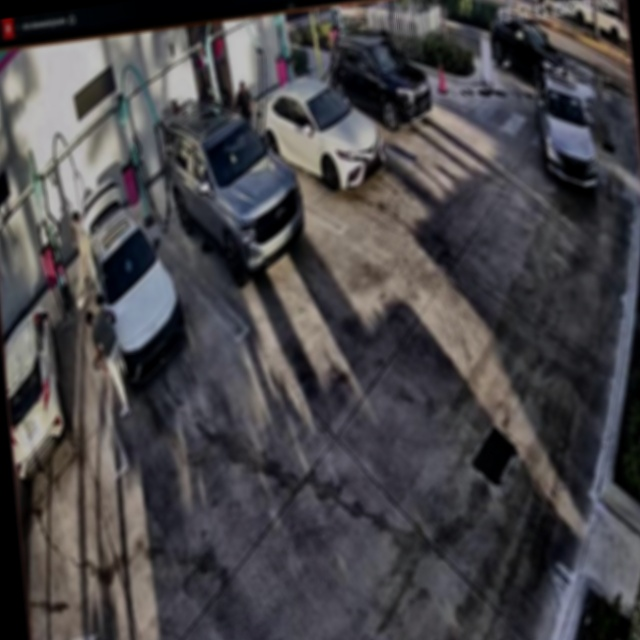Car: (161, 90, 308, 292), (75, 177, 187, 391), (253, 67, 385, 199)
